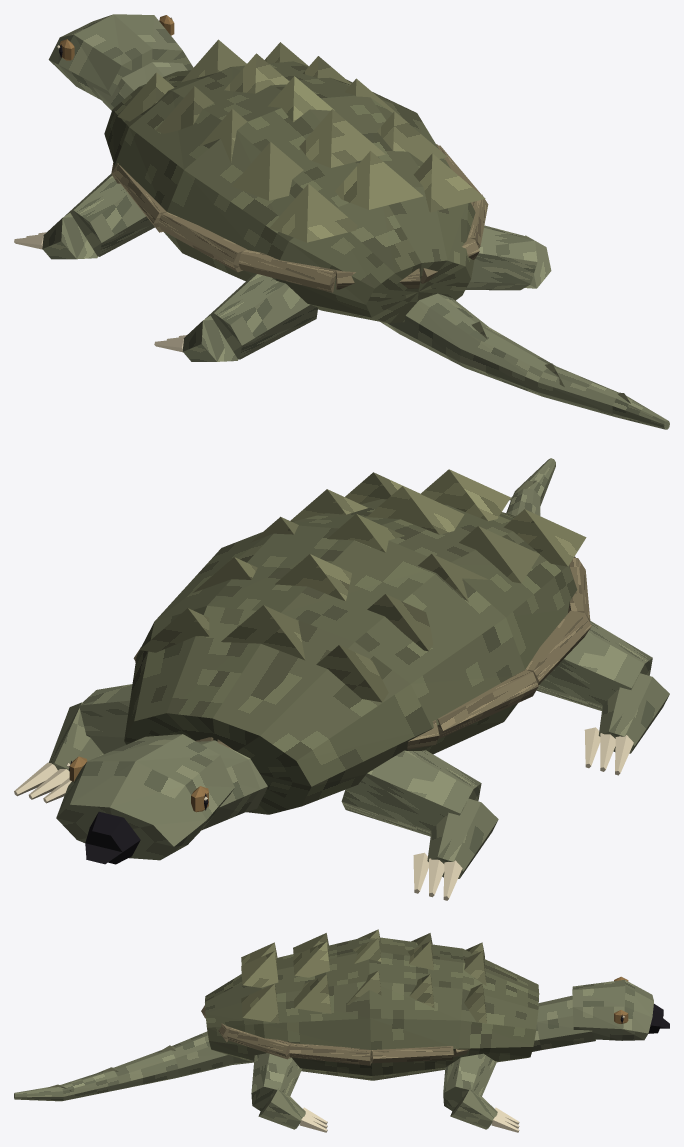
Rendered from mon_turtle_snapping_common.glb.
The picture shows the model from 3 angles, top to bottom: view 1: azimuth 30°, elevation 25°; view 2: azimuth 150°, elevation 25°; view 3: azimuth 270°, elevation 25°; orthographic projection. The views are drawn at different scales.
Visible parts, largest first — view 1: closed_body; view 2: closed_body; view 3: closed_body.
Part boxes in pixels (box(x1,y1,x2,y2)): closed_body: box(14, 14, 669, 429); closed_body: box(14, 458, 669, 900); closed_body: box(14, 929, 669, 1132).
Bounding box in the file's own units: 0.3771 × 0.206 × 0.8802.
Materials: 1 (1 with a texture image).
